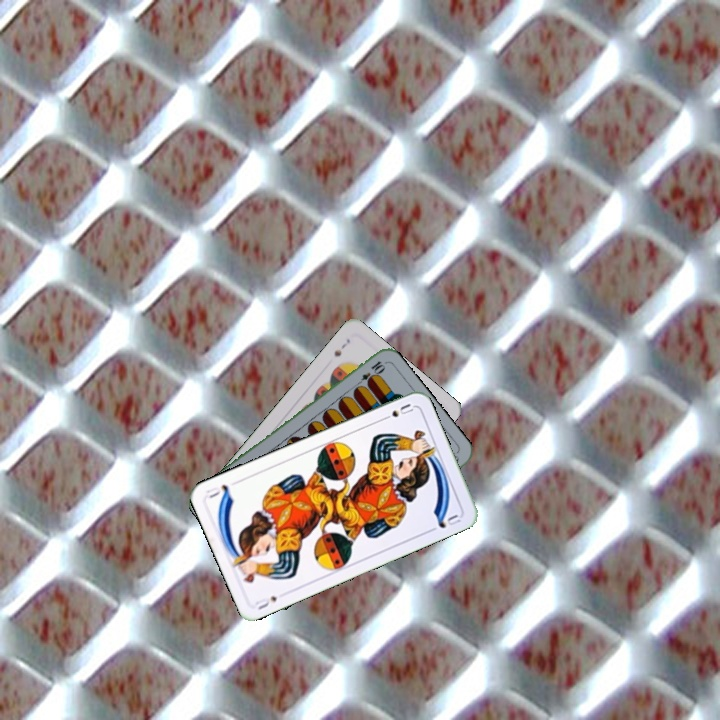E10: (352, 357, 387, 390)
S7: (330, 335, 353, 359)
SU: (377, 399, 416, 424), (251, 592, 280, 612)
